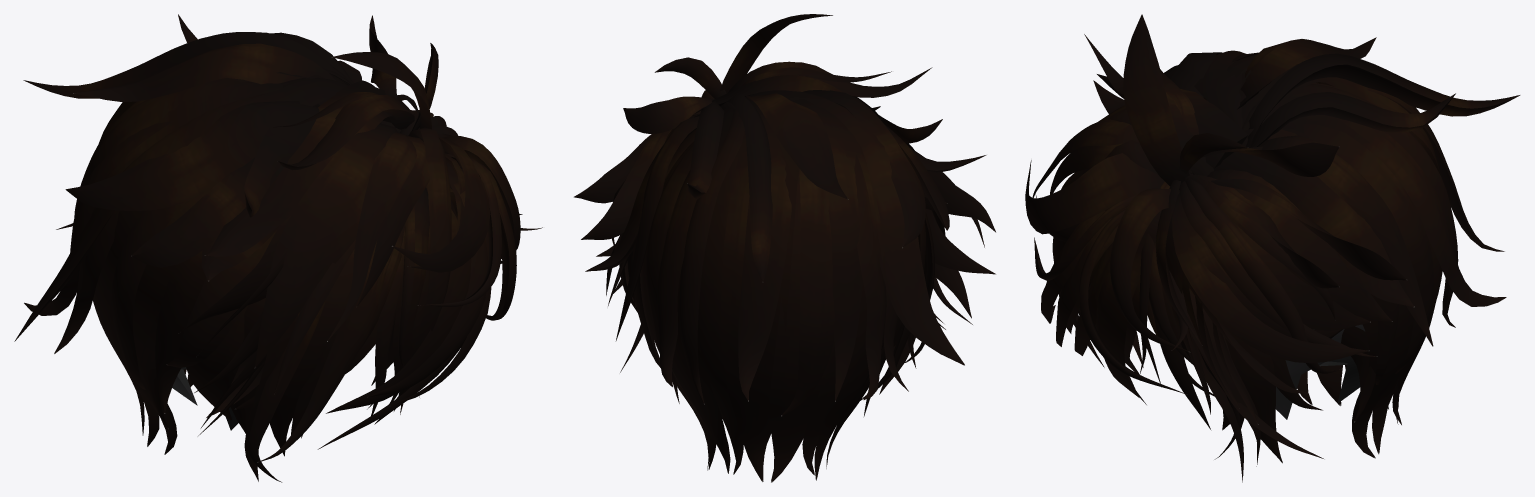
Rendered from MHair_1.glb.
The picture shows the model from 3 angles, left to right: view 1: azimuth 30°, elevation 25°; view 2: azimuth 150°, elevation 25°; view 3: azimuth 270°, elevation 25°; orthographic projection. The views are drawn at different scales.
Parts seen in each view (by area): view 1: Body; view 2: Body; view 3: Body.
Boxes of the visible parts, x1,y1,x2,y2 form: Body: (14,14,542,482); Body: (573,14,996,482); Body: (1025,14,1520,482).
Bounding box in the file's own units: 0.0463 × 0.0427 × 0.0444.
1 material, 1 textured.
